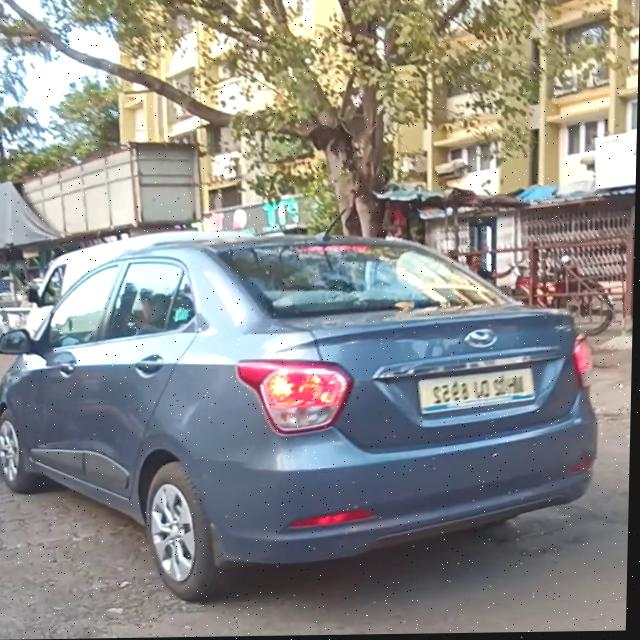plate: (419, 368, 540, 416)
